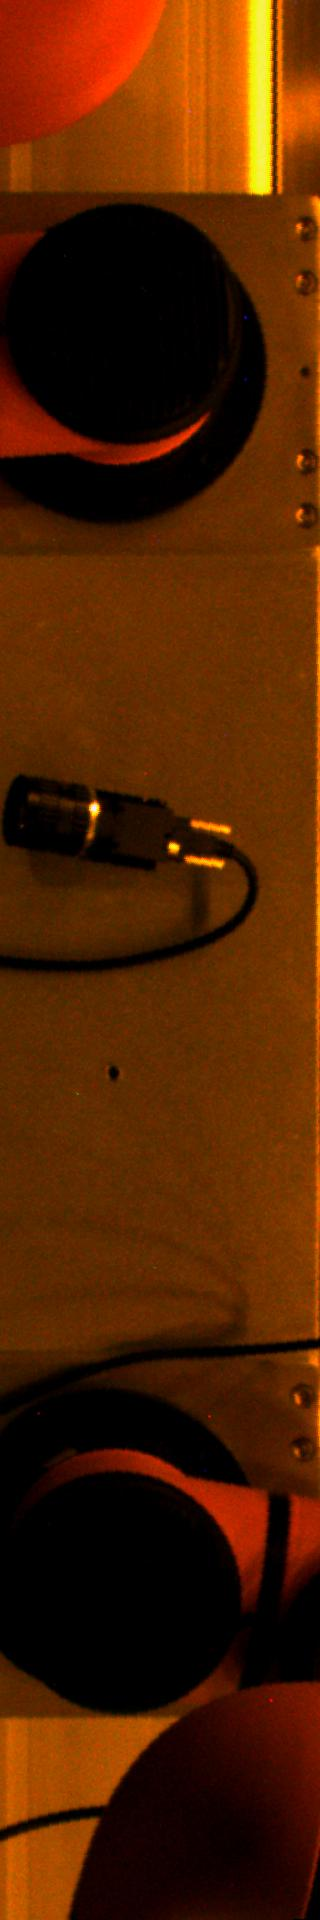keyPoint_2: (98, 1057, 128, 1087)
